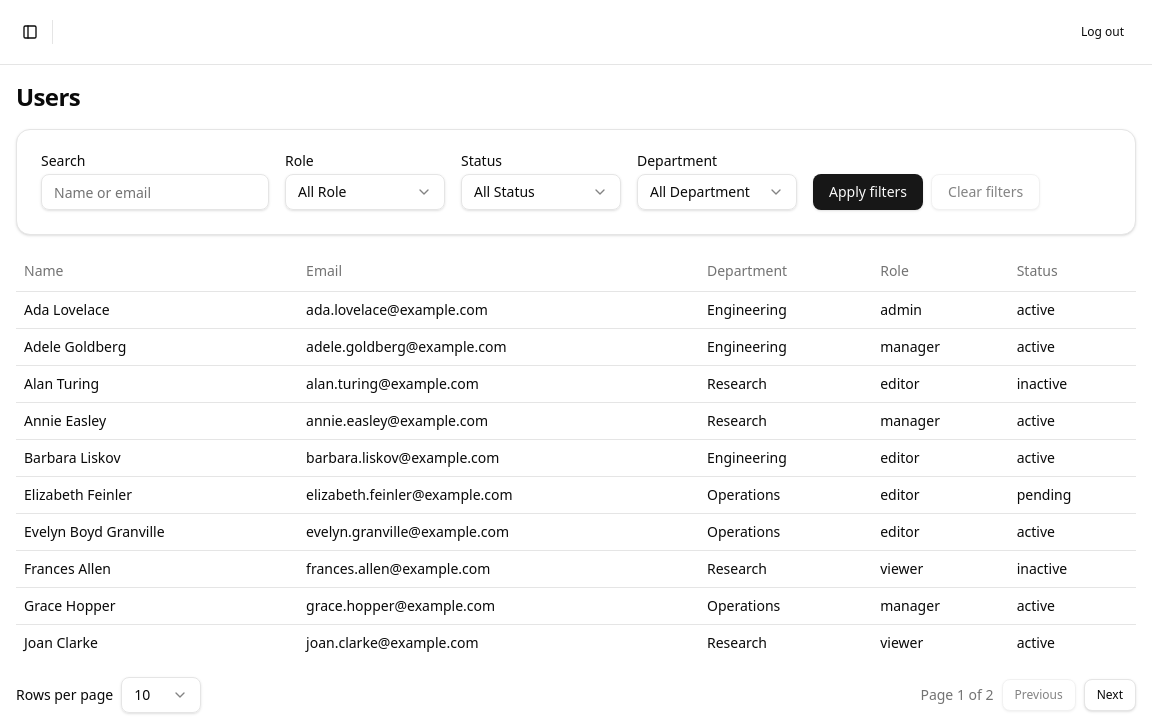
/users › sorts by clicking a column header and updates the URL
Check: the row "Ada Lovelace" is shown, box [16, 291, 1136, 328]
What coordinates should you click on to do the following:
click the button "Name"
I would click on:
 (44, 271)
Its box is [24, 261, 64, 281].
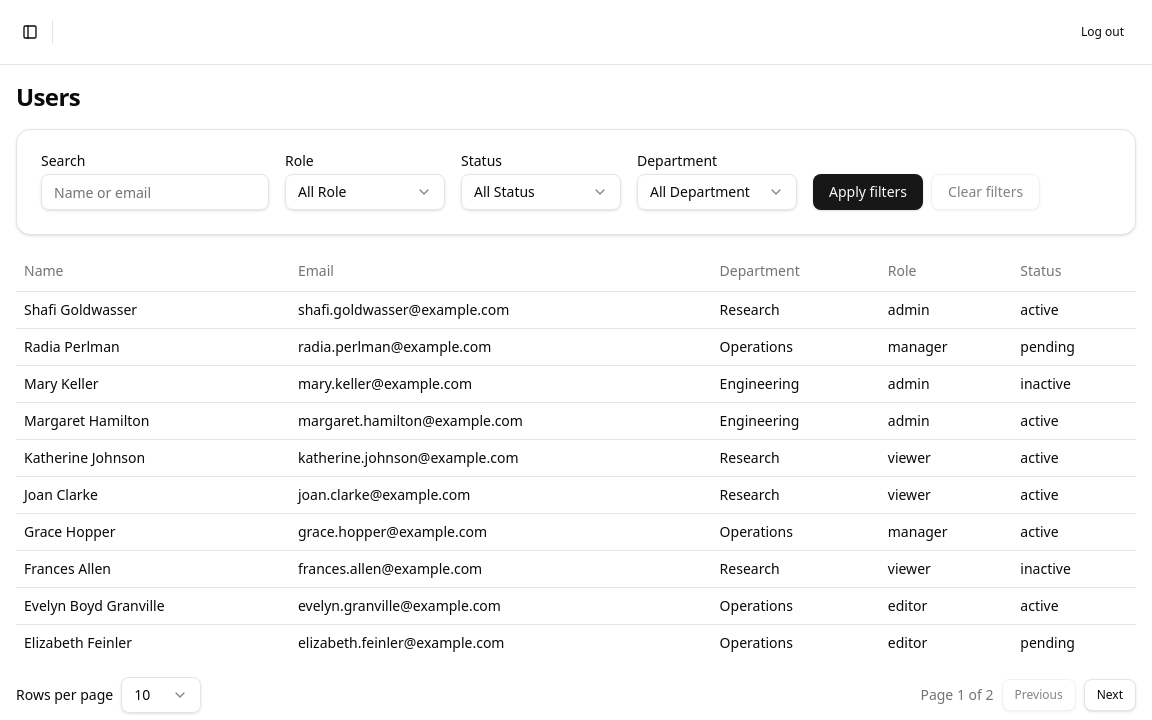
Check: the row "Shafi Goldwasser" is shown, box [16, 291, 1136, 328]
Check: the link "Ada Lovelace" is gone
